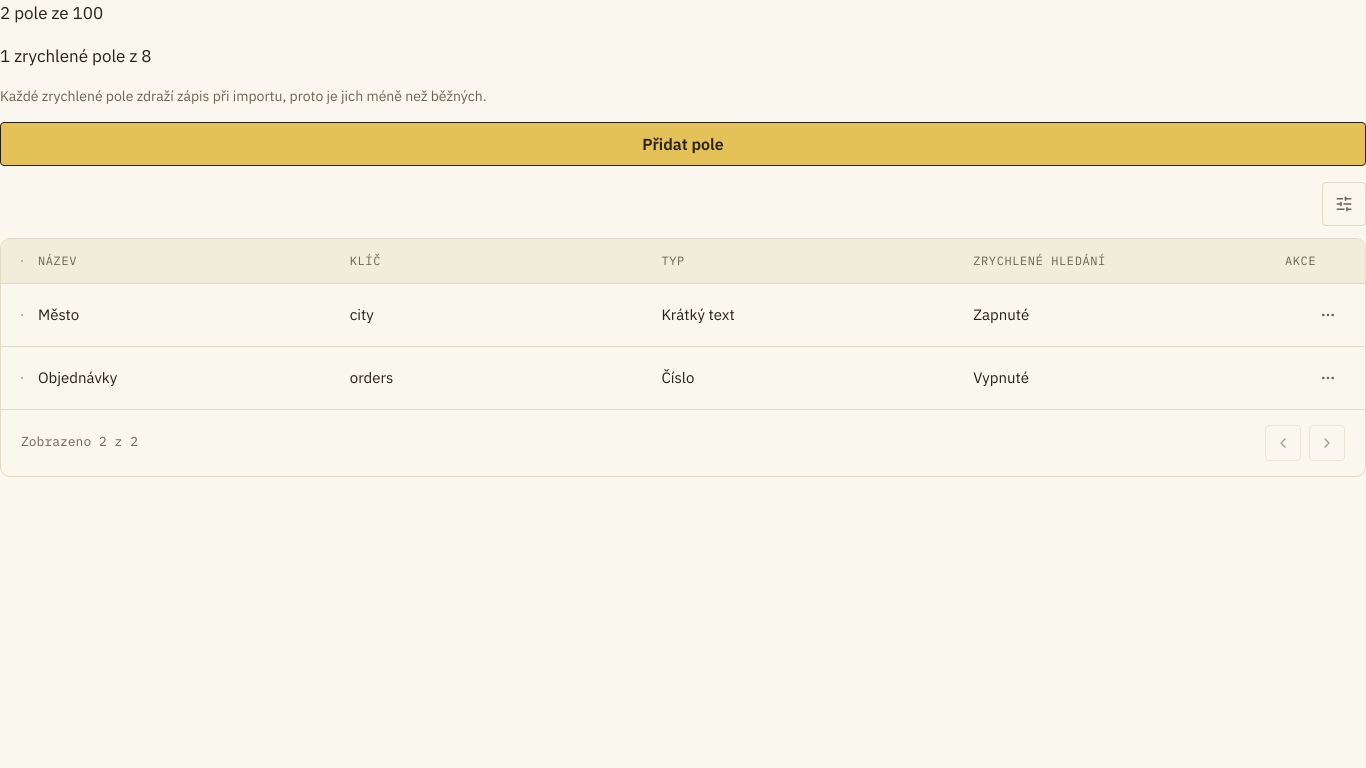
it: FieldsTable › dialog smazání ukáže dopad z endpointu impact
Click the button with test id "field-row-menu-city". click: coordinates (1328, 315)
box: top-left (1311, 298), bottom-right (1345, 332)
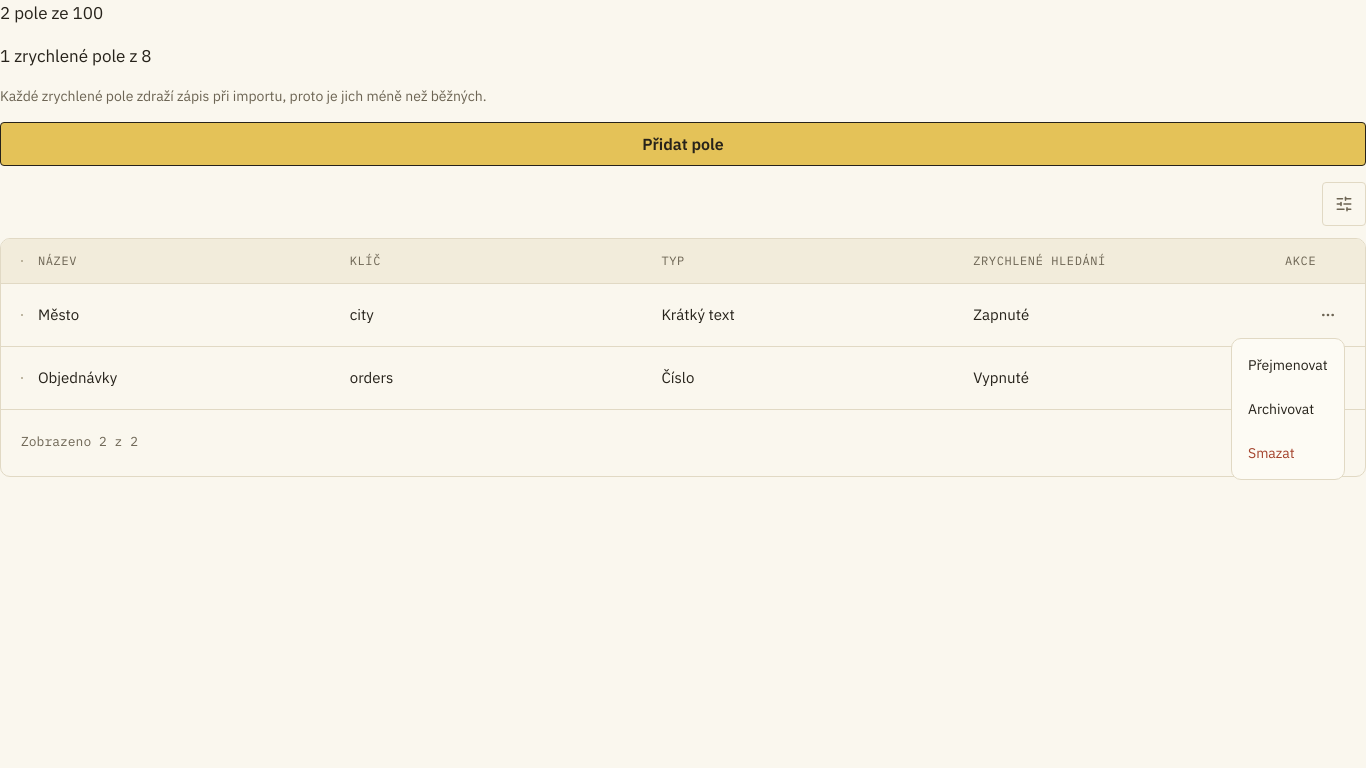
Click the menu item "Smazat". click: coordinates (1271, 453)
box: top-left (1248, 444), bottom-right (1295, 462)
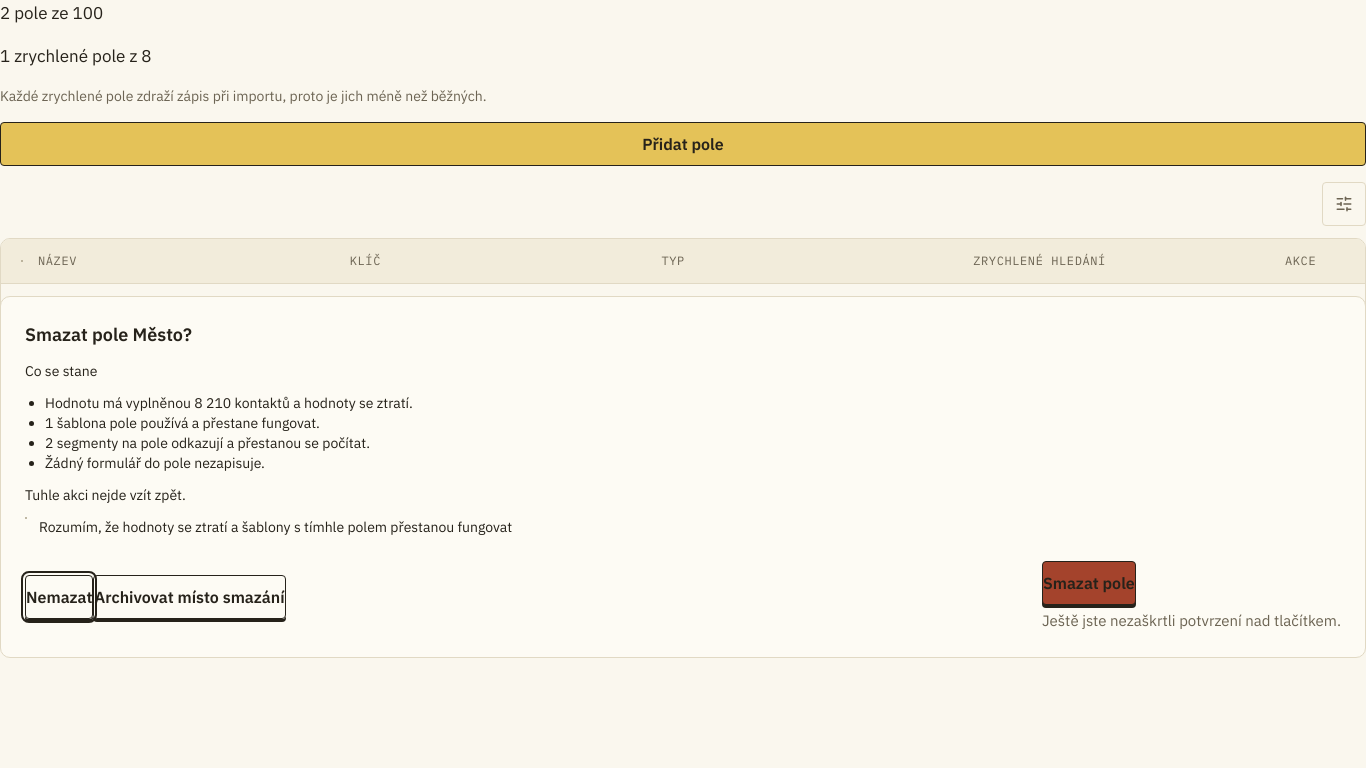
expect the list item "Hodnotu má vyplněnou 8 210 kontaktů a hodnoty se ztratí." is shown: met, box top-left (45, 394), bottom-right (413, 412)
expect the list item "1 šablona pole používá a přestane fungovat." is shown: met, box top-left (45, 414), bottom-right (320, 432)
expect the list item "2 segmenty na pole odkazují a přestanou se počítat." is shown: met, box top-left (45, 434), bottom-right (370, 452)
